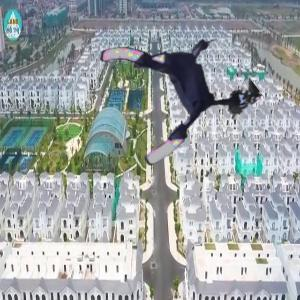drone: (103, 17, 239, 153)
